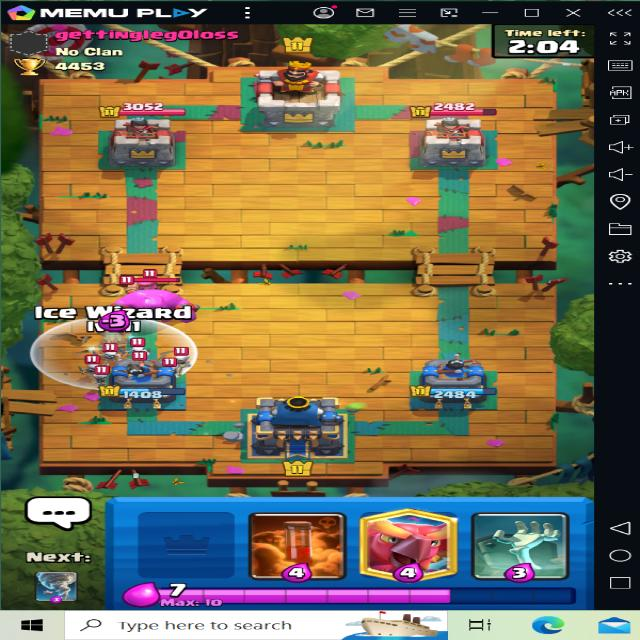electro-golem: (93, 274, 203, 320)
firecracker: (122, 266, 172, 294)
skeleton: (166, 343, 201, 370), (104, 337, 126, 359), (75, 353, 98, 372), (128, 338, 156, 353), (90, 365, 111, 379)
